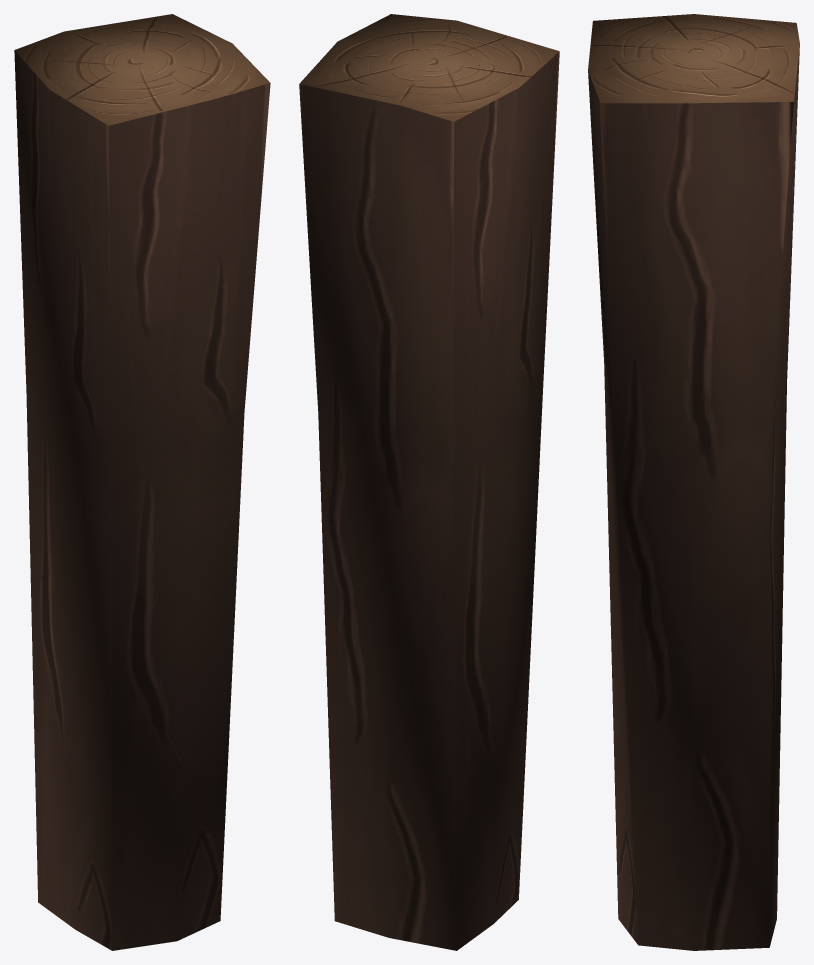
The model's file is FenceOne.fbx.
The picture shows the model from 3 angles, left to right: view 1: azimuth 30°, elevation 25°; view 2: azimuth 150°, elevation 25°; view 3: azimuth 270°, elevation 25°; orthographic projection. The views are drawn at different scales.
Parts seen in each view (by area): view 1: Cube.001; view 2: Cube.001; view 3: Cube.001.
Boxes of the visible parts, bbox=[...] form: Cube.001: bbox=[14, 14, 270, 950]; Cube.001: bbox=[299, 14, 559, 950]; Cube.001: bbox=[588, 14, 799, 950].
Size of the model in its own units: 0.1134 by 0.5052 by 0.112.
